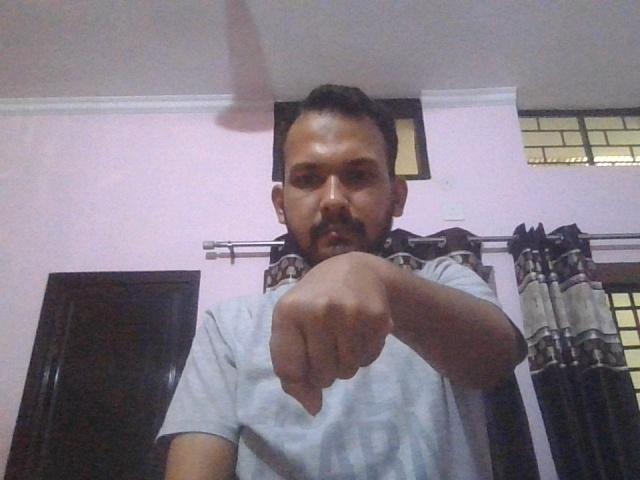yes: (271, 253, 395, 416)
